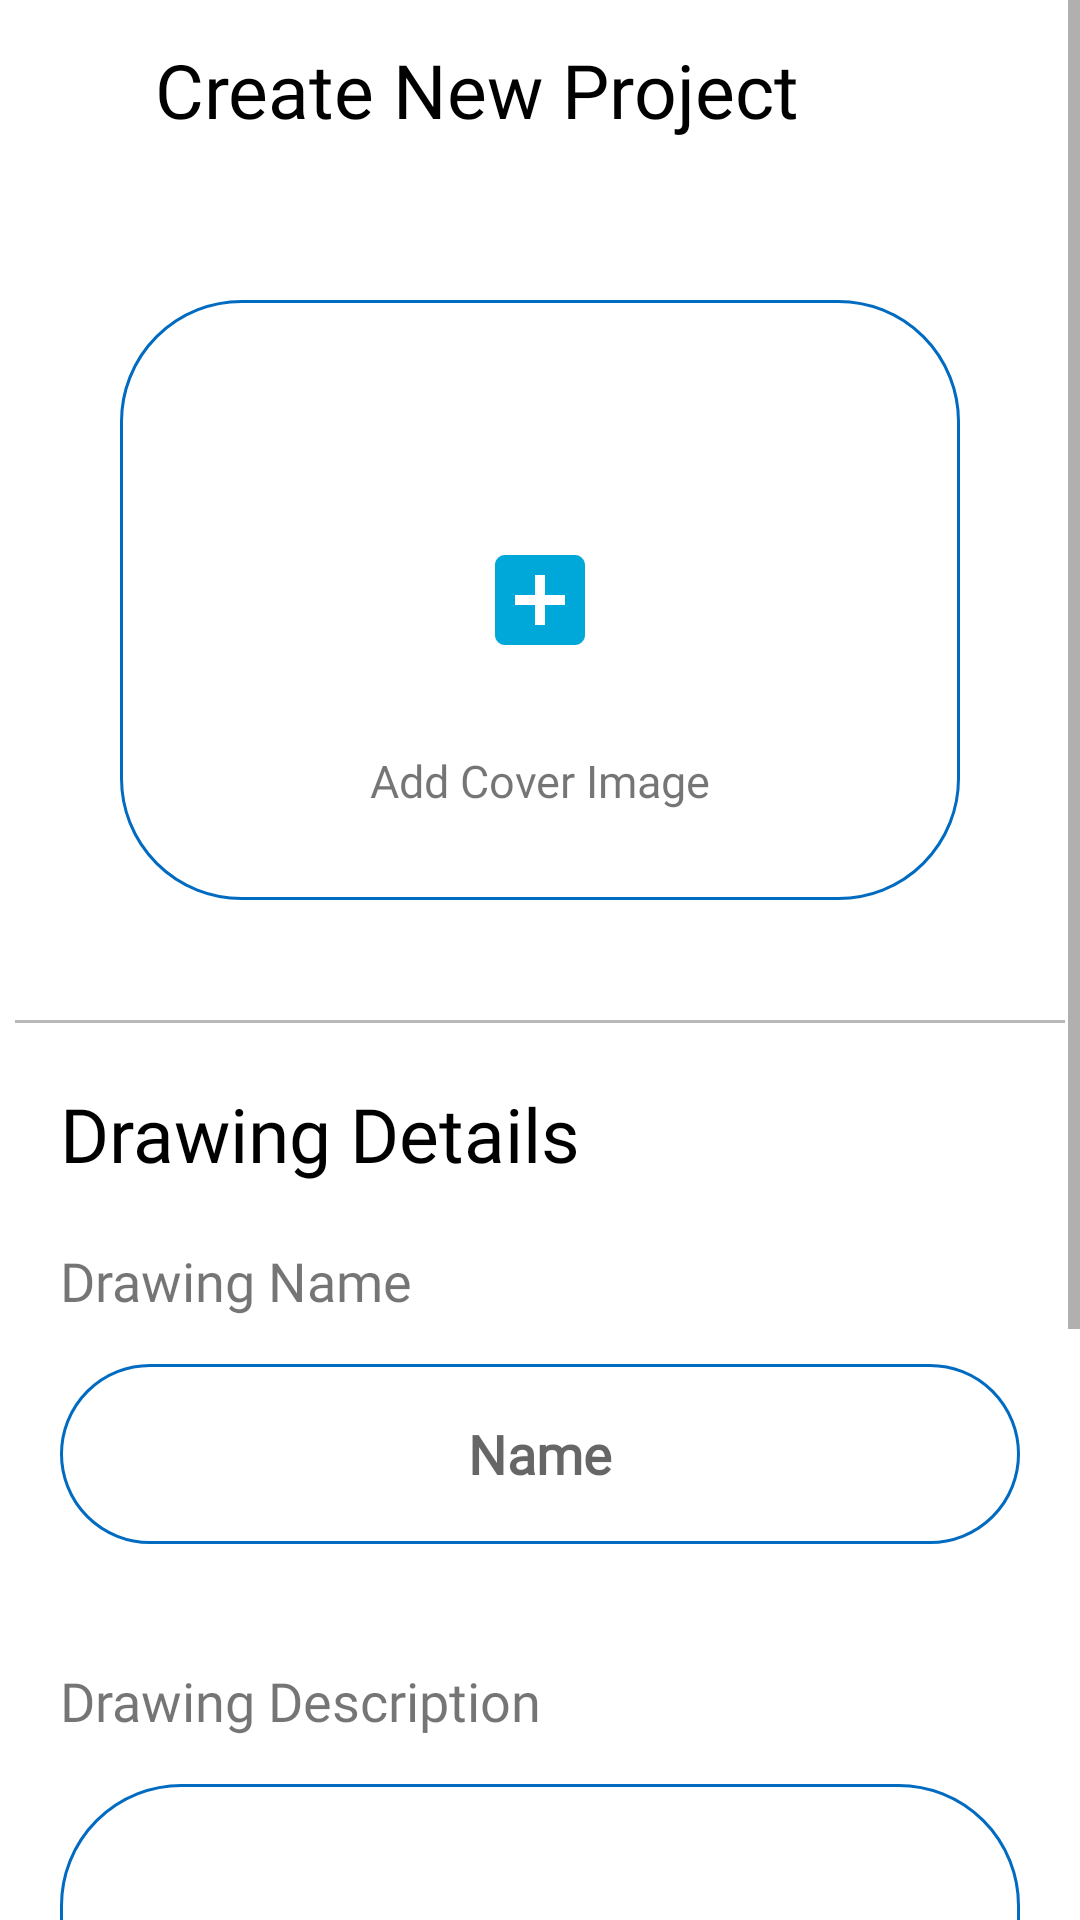

Screen size 1080px×1920px. Icon name, then its center in pixels as point (x, y):
add plus: point (540, 600)
